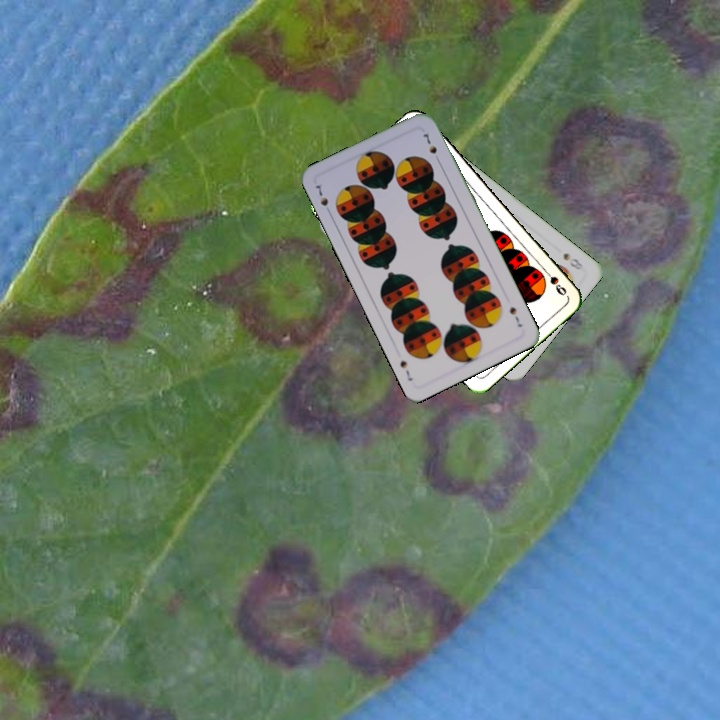S7: (310, 179, 334, 217), (505, 303, 525, 330)
S8: (559, 249, 586, 272)
S9: (539, 264, 569, 298)
